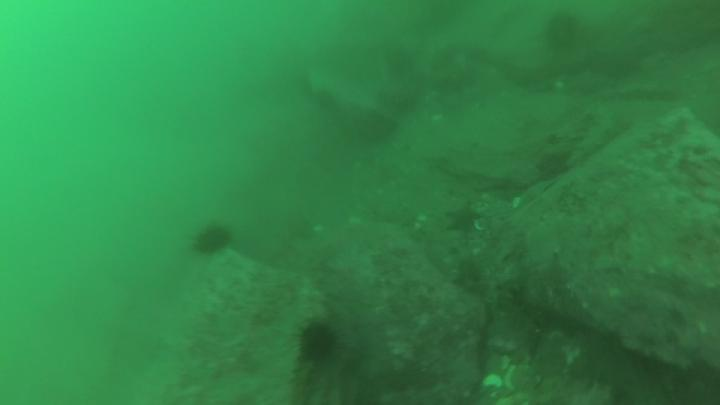echinus: (298, 326, 336, 362), (547, 14, 580, 46), (192, 227, 232, 253), (540, 152, 570, 181)
starfish: (446, 205, 480, 234)
